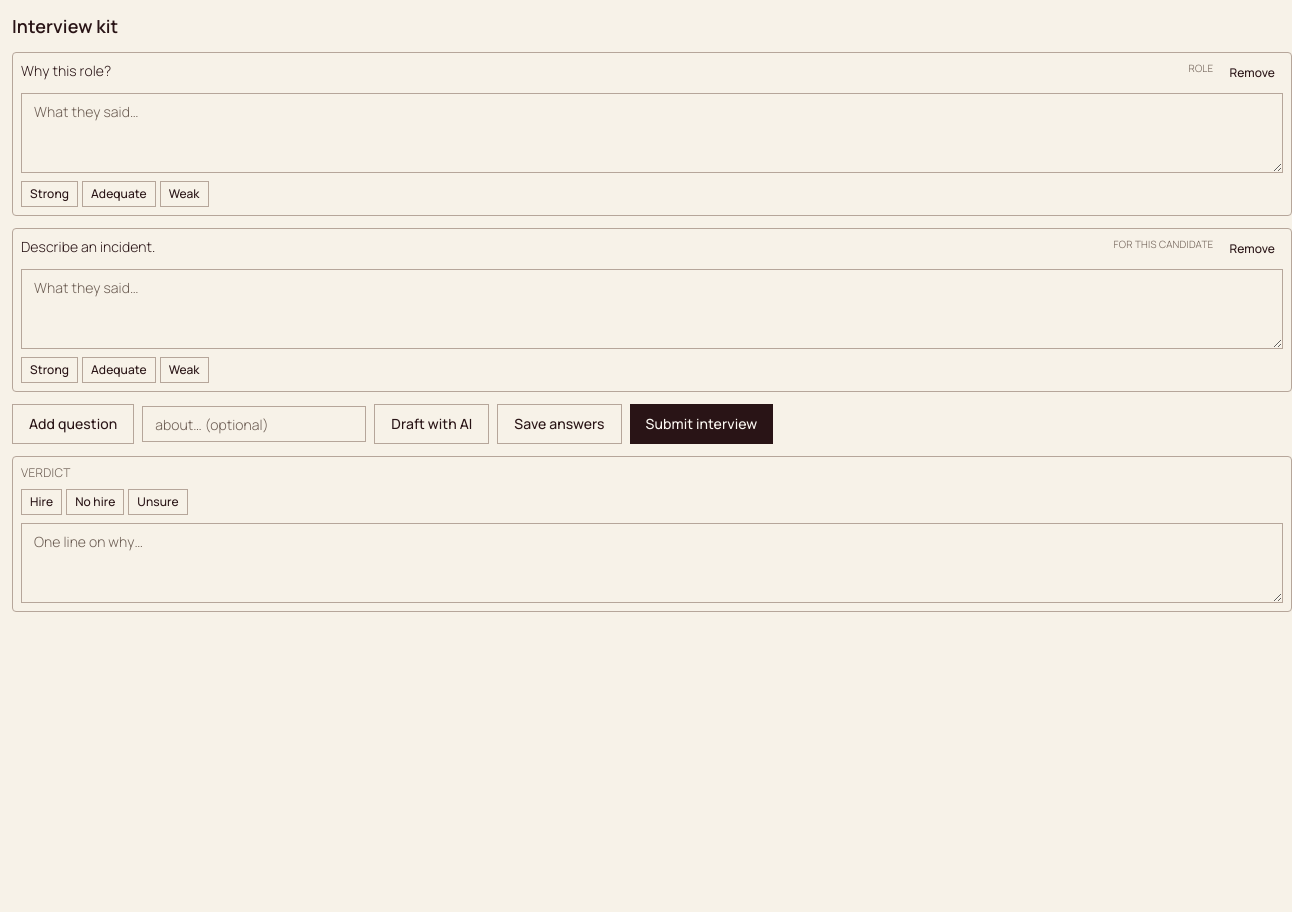
Test: InterviewKitSection › shows an error toast and does not lose the draft when saving fails
Expected: the text box showing "Why this role?" is shown, [21,61,1180,80]
Type "Wants scale" into the text box with placeholder "What they said…" below "Role".
click(652, 133); type("Wants scale")  # box [21,93,1283,173]
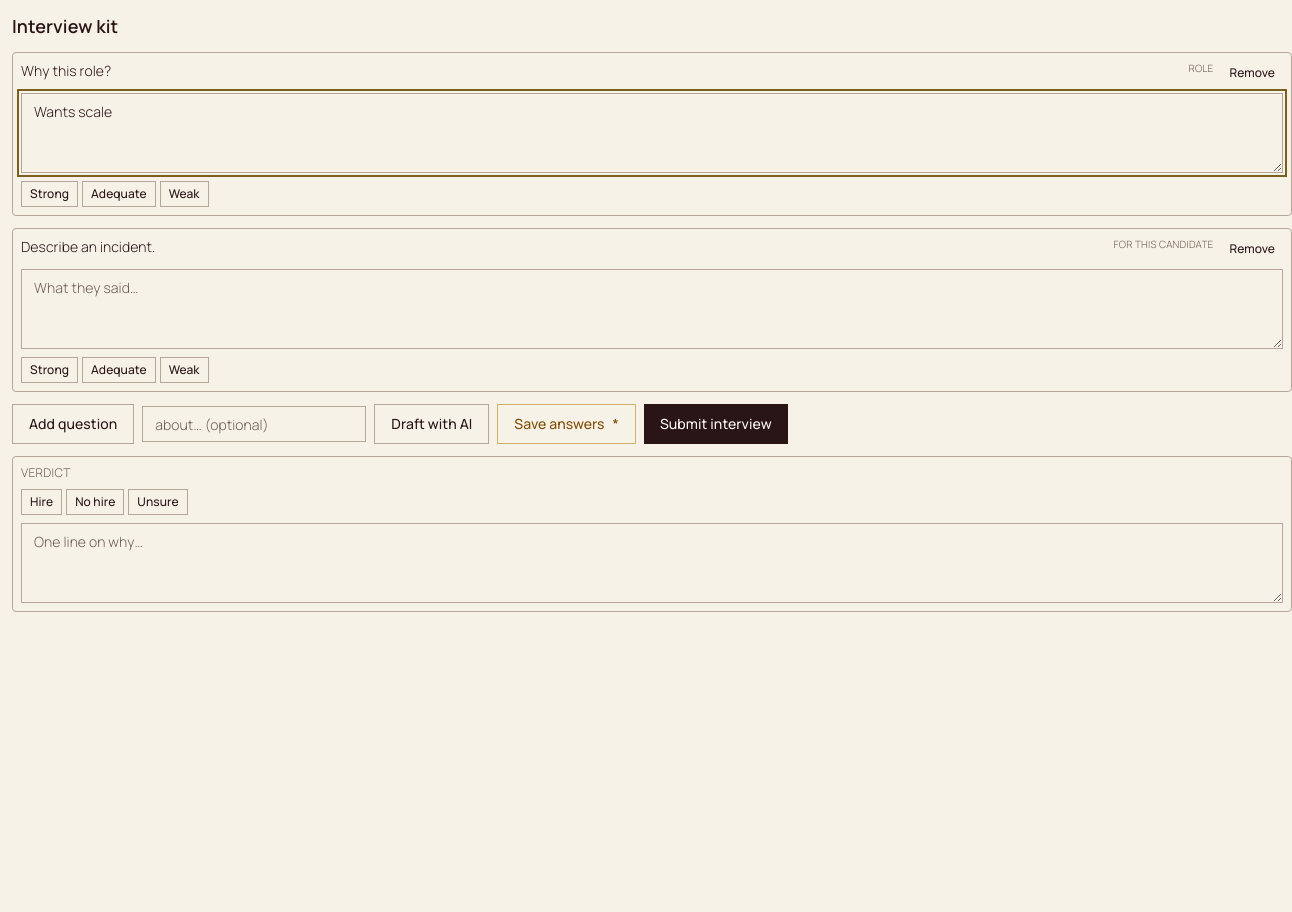
Click the button "Save answers *".
click(567, 424)  # box [497,404,636,444]
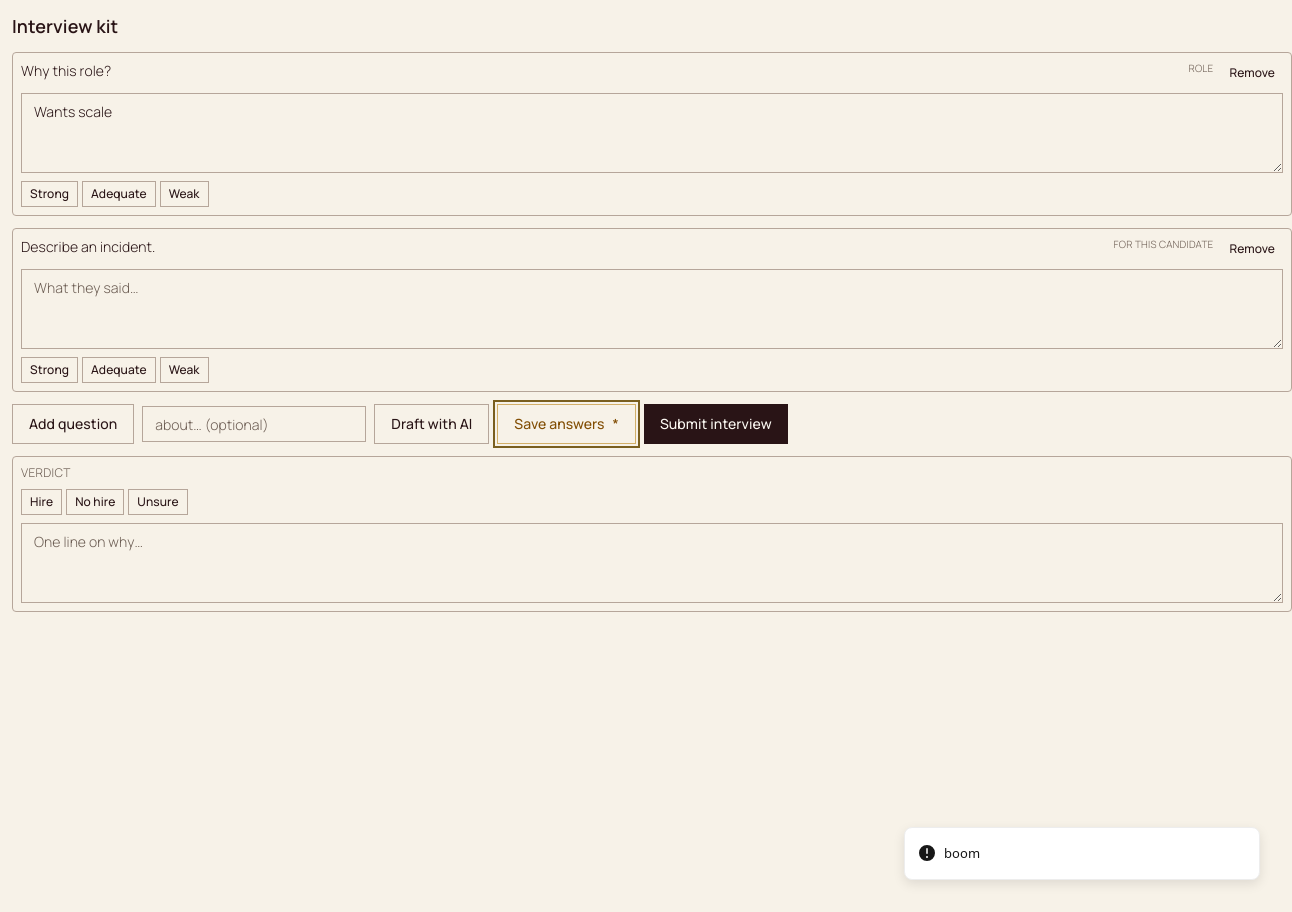
Expected: the text "boom" is shown, [944,844,980,863]
